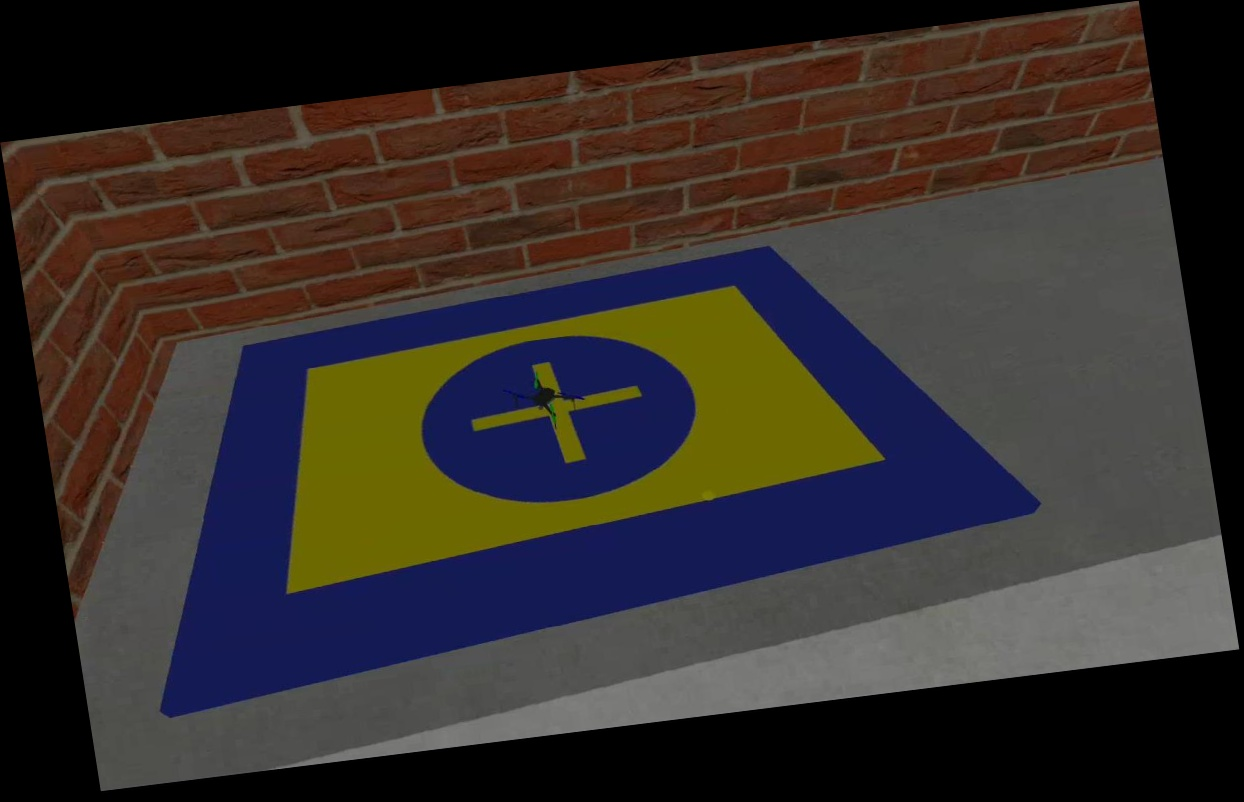large_base: (97, 209, 1054, 721)
